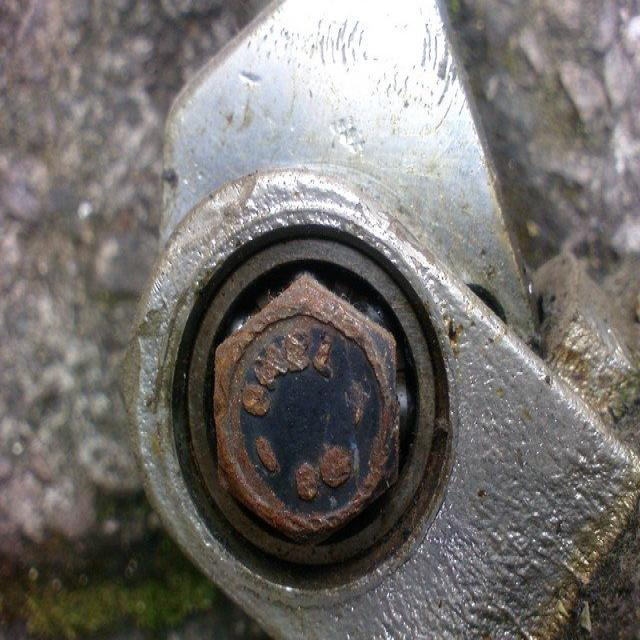bolt head: (211, 271, 406, 549)
